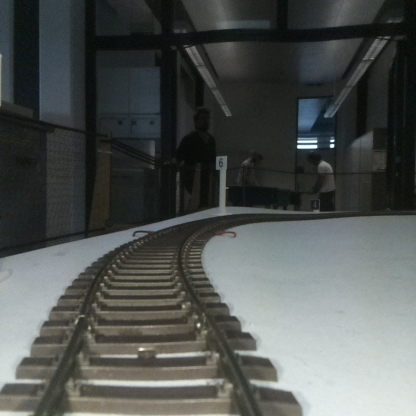white-info-6: (216, 155, 226, 214)
